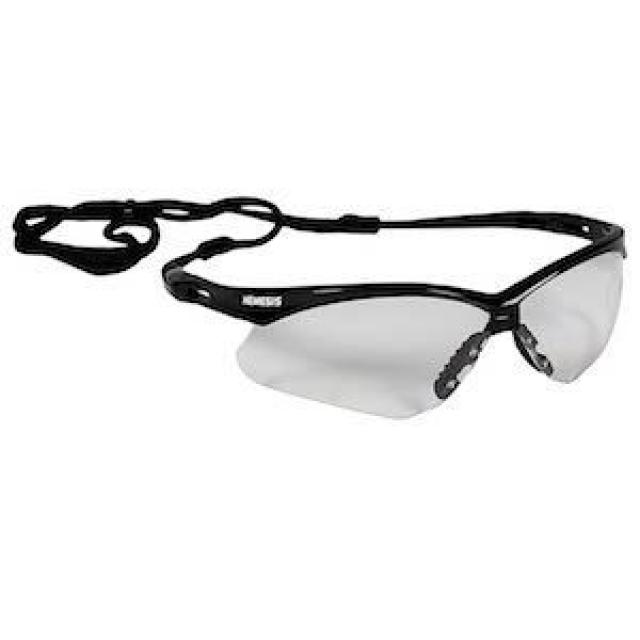goggles: (163, 160, 602, 424)
